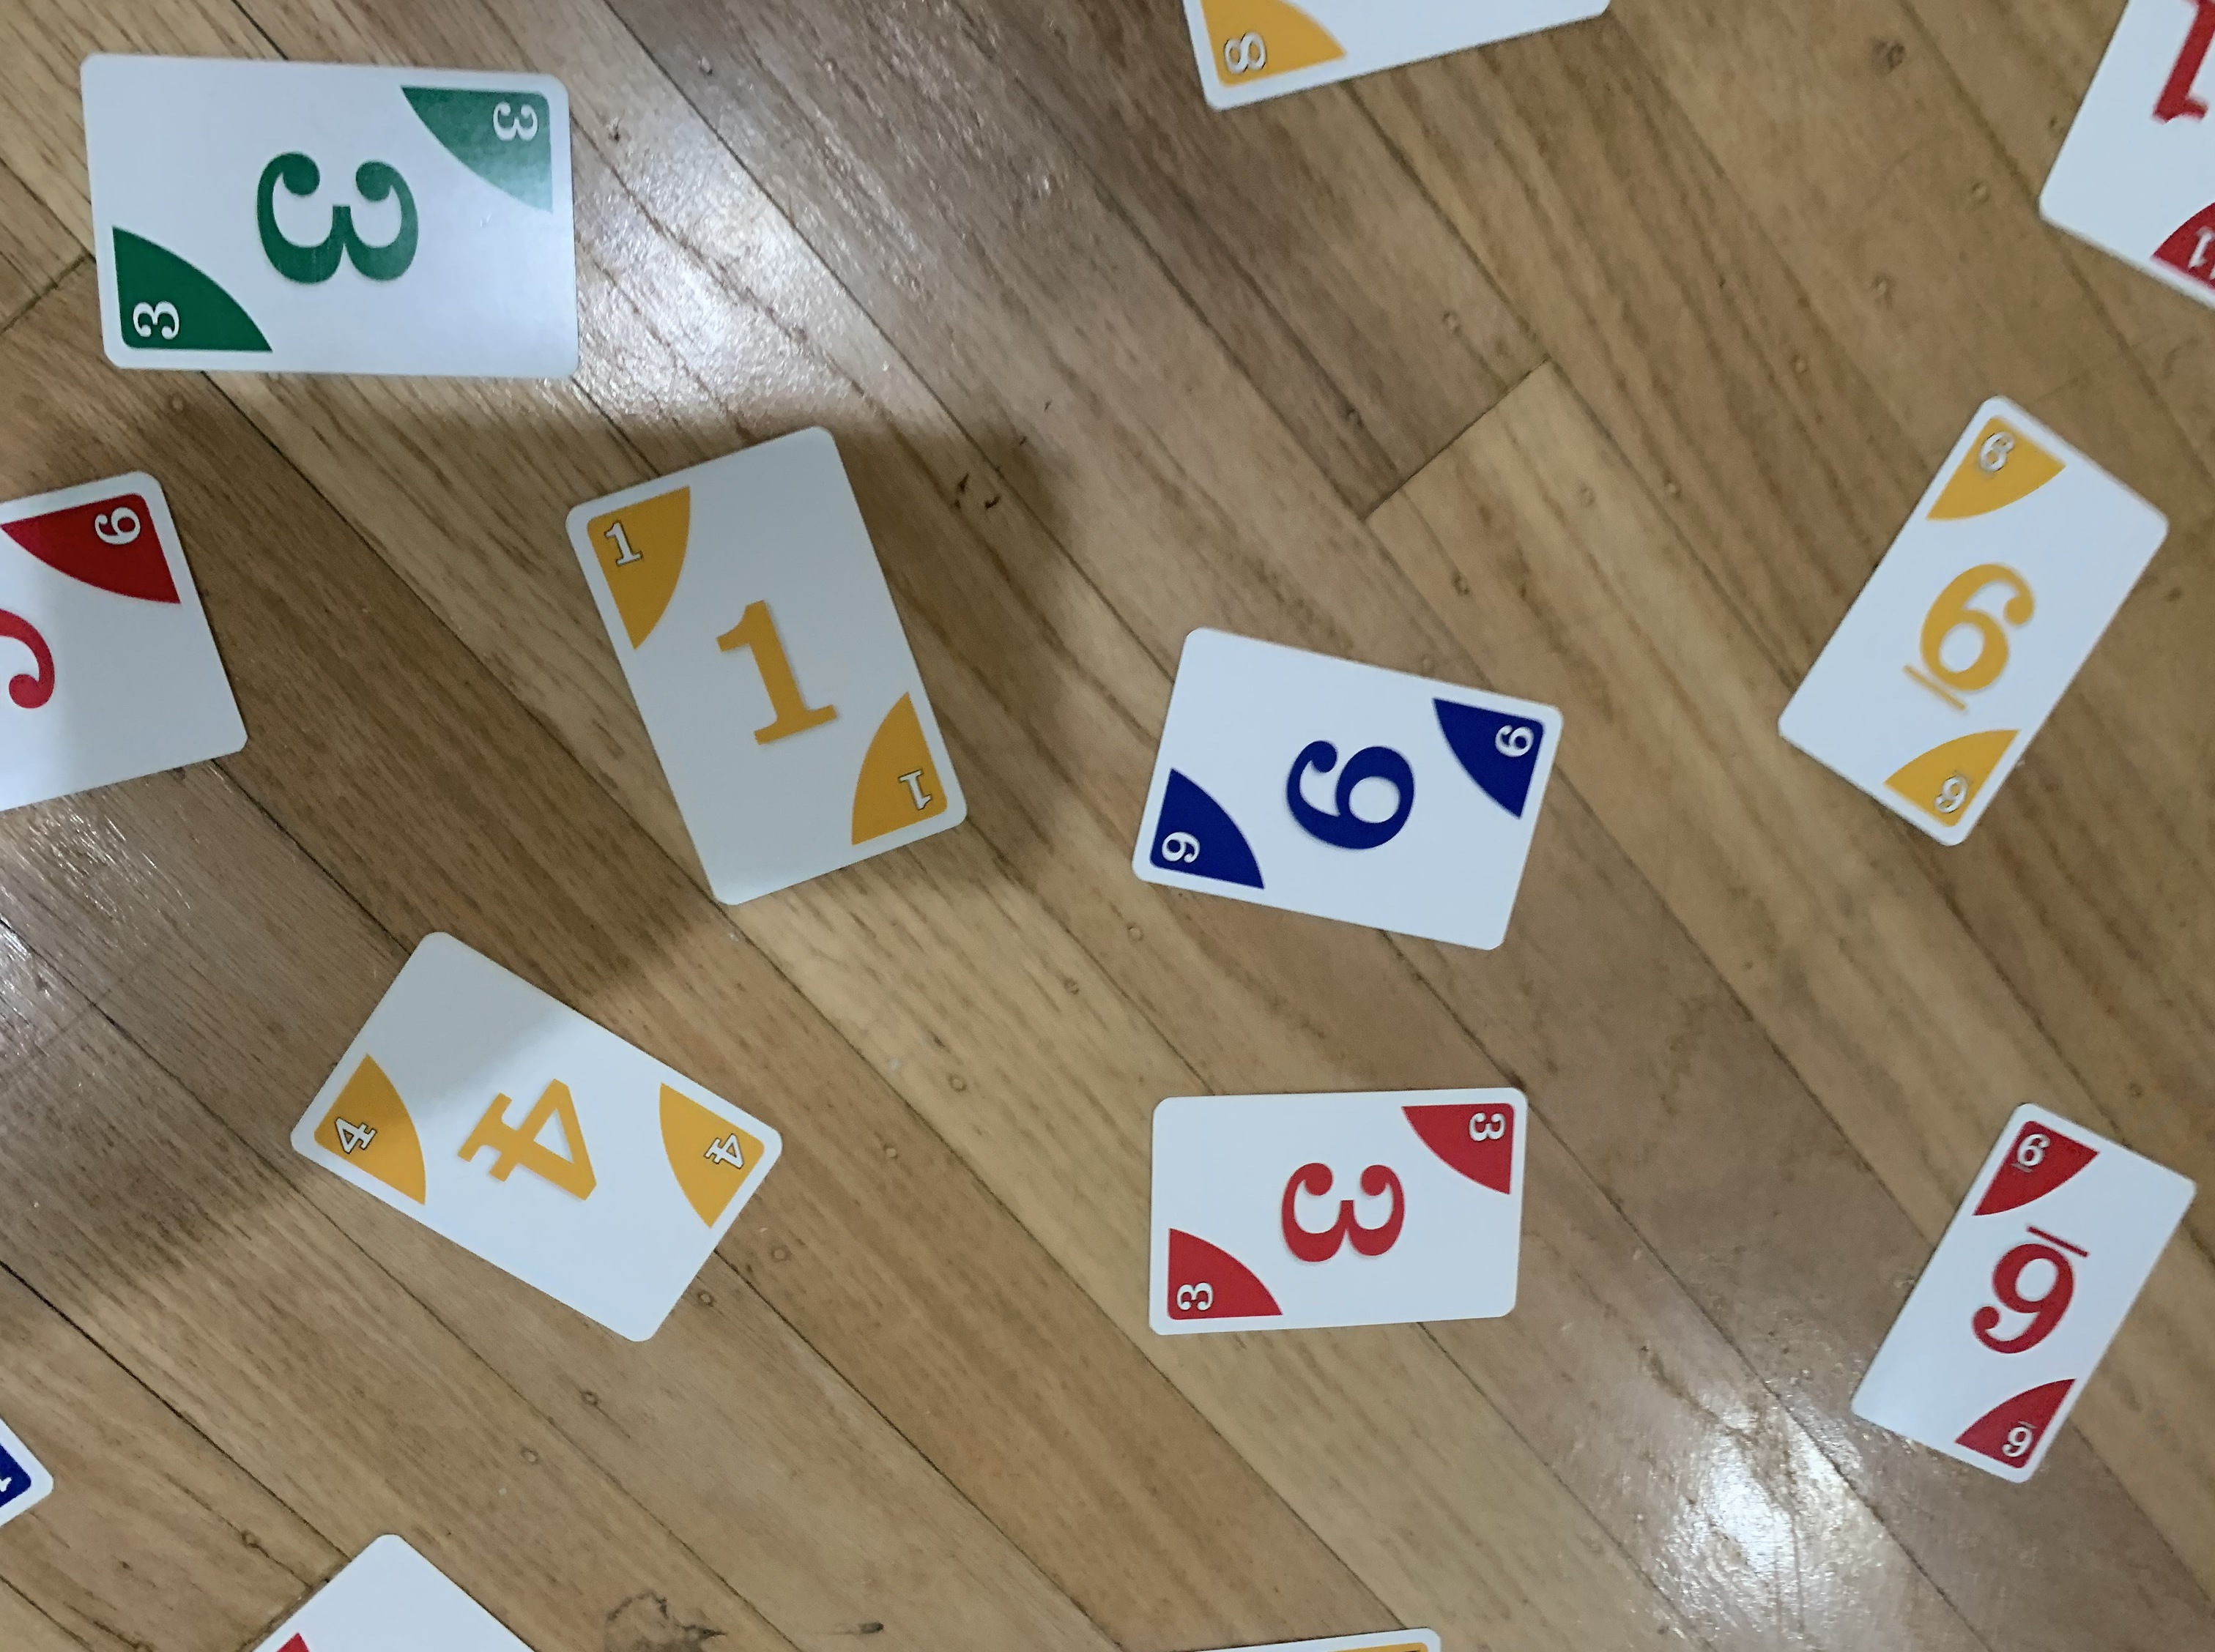four: (274, 920, 788, 1357)
nine: (1128, 607, 1574, 965), (1840, 1085, 2201, 1492)
one: (547, 420, 979, 915)
six: (1769, 383, 2180, 854)
three: (59, 40, 590, 397), (1139, 1085, 1536, 1347)
